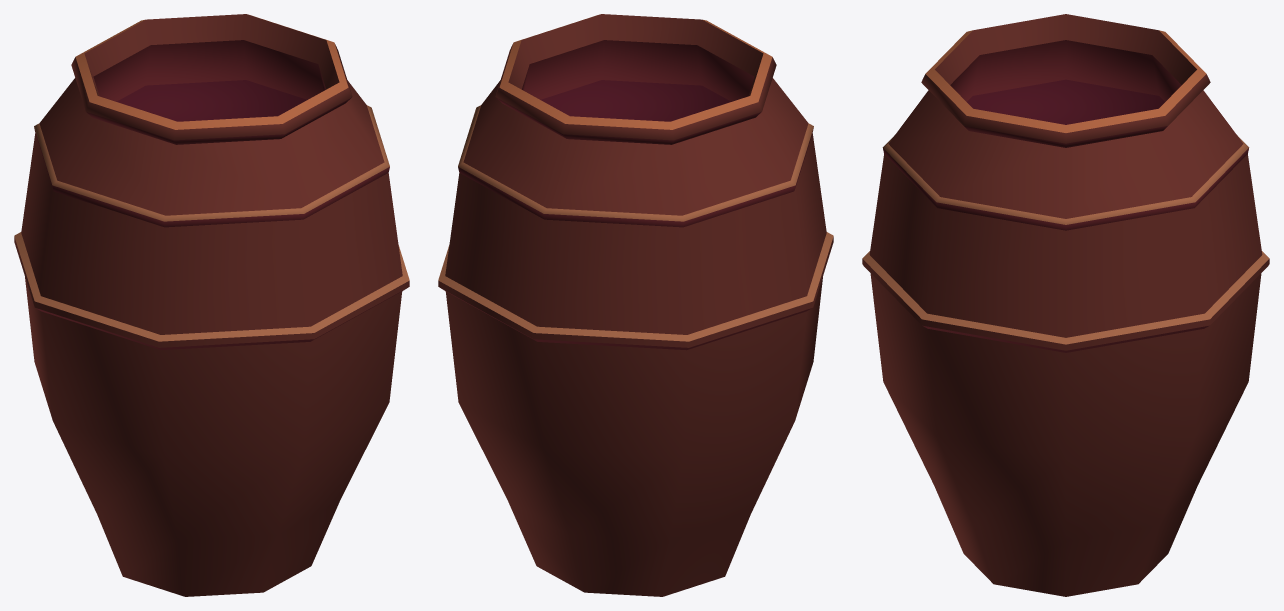
Rendered from JoseonpotB_01.fbx.
The picture shows the model from 3 angles, left to right: view 1: azimuth 30°, elevation 25°; view 2: azimuth 150°, elevation 25°; view 3: azimuth 270°, elevation 25°; orthographic projection.
Visible parts, largest first — view 1: joseonpotB; view 2: joseonpotB; view 3: joseonpotB.
Part boxes in pixels (x1=…): joseonpotB: x1=14, y1=14, x2=409, y2=596; joseonpotB: x1=438, y1=14, x2=833, y2=596; joseonpotB: x1=862, y1=14, x2=1269, y2=596.
Bounding box in the file's own units: 95.04 × 125 × 95.04.
